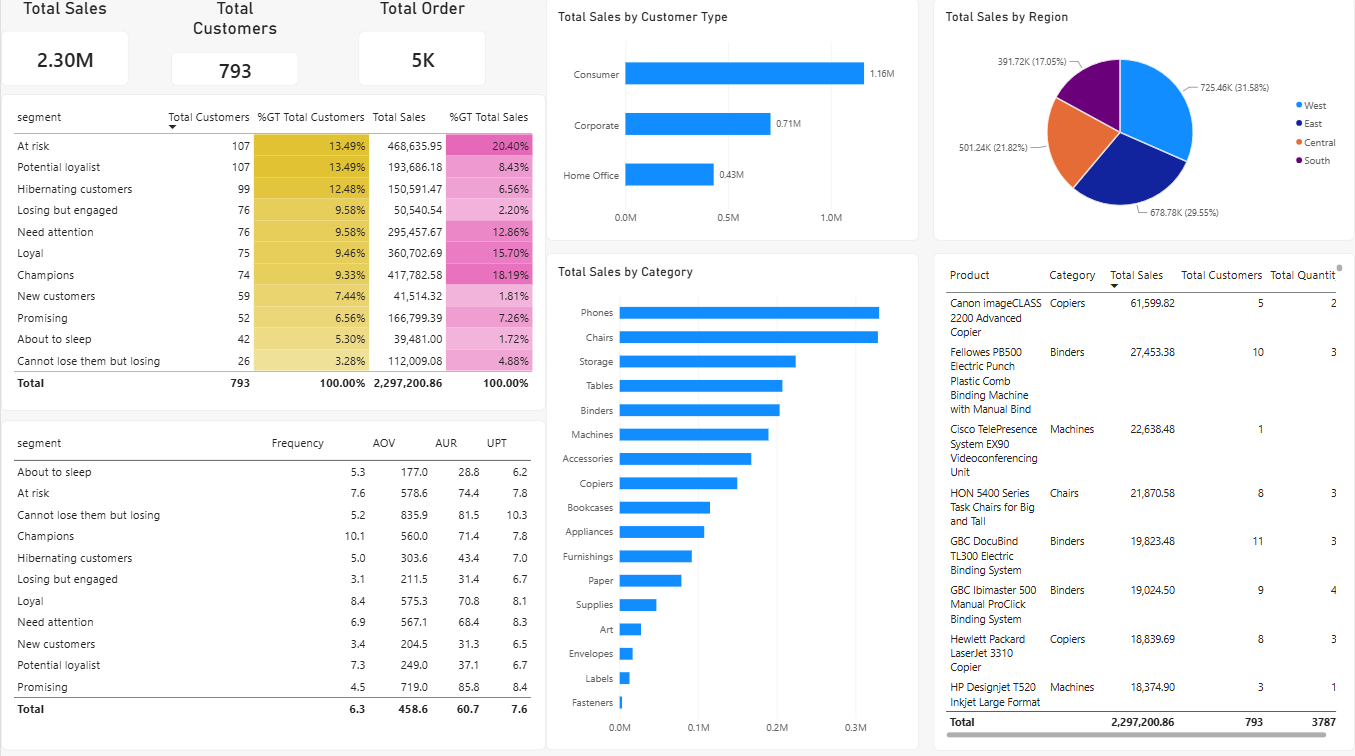

The page's visual inventory and layout, read from the dashboard file:
{"tool":"powerbi","page":{"name":"Page 1","canvas":[1920,1080],"ordinal":0},"visuals":[{"type":"cardVisual","title":"Total Sales","fields":{"Data":["scoring.Total Sales"]},"box":[0,0,178.6,122.9],"z":0},{"type":"cardVisual","title":"Total Customers","fields":{"Data":["scoring.Total Customers"]},"box":[237.1,0,178.6,122.9],"z":1000},{"type":"cardVisual","title":"Total Order","fields":{"Data":["scoring.Total Order"]},"box":[498.6,0,178.6,122.9],"z":2000},{"type":"clusteredBarChart","title":"Total Sales by Customer Type","fields":{"Y":["scoring.Total Sales"],"Category":["segmentation - superstore.segment"]},"box":[760,0,520,338.3],"z":3000},{"type":"tableEx","fields":{"Values":["scoring.segment","scoring.Total Customers","Divide(scoring.Total Customers, ScopedEval(scoring.Total Customers, []))","scoring.Total Sales","Divide(scoring.Total Sales, ScopedEval(scoring.Total Sales, []))"]},"box":[0,135,760,441.7],"z":4000},{"type":"tableEx","fields":{"Values":["scoring.segment","scoring.Avg Frequency","scoring.AOV","scoring.AUR","scoring.UPT"]},"box":[0,590,760,460],"z":5000},{"type":"clusteredBarChart","title":"Total Sales by Category","fields":{"Y":["scoring.Total Sales"],"Category":["segmentation - superstore.subcategory"]},"box":[760,356,520,693.3],"z":6000},{"type":"tableEx","fields":{"Values":["segmentation - superstore.product_name","segmentation - superstore.subcategory","scoring.Total Sales","scoring.Total Customers","scoring.Total Quantity"]},"box":[1302,356,588,694],"z":7000},{"type":"pieChart","title":"Total Sales by Region","fields":{"Y":["scoring.Total Sales"],"Category":["segmentation - superstore.region"]},"box":[1302,0,588,338],"z":8000}]}

Visuals, with their boxes in screenshot pixels (x1, y1, x2, y2), scaled from the page's 1920x1080 canvas onto the 1355x756 screenshot:
"Total Sales" cardVisual: BBox(0, 0, 126, 86)
"Total Customers" cardVisual: BBox(167, 0, 293, 86)
"Total Order" cardVisual: BBox(352, 0, 478, 86)
"Total Sales by Customer Type" clusteredBarChart: BBox(536, 0, 903, 237)
tableEx - scoring.segment x scoring.Total Customers: BBox(0, 94, 536, 404)
tableEx - scoring.segment x scoring.Avg Frequency: BBox(0, 413, 536, 735)
"Total Sales by Category" clusteredBarChart: BBox(536, 249, 903, 735)
tableEx - segmentation - superstore.product_name x segmentation - superstore.subcategory: BBox(919, 249, 1334, 735)
"Total Sales by Region" pieChart: BBox(919, 0, 1334, 237)
